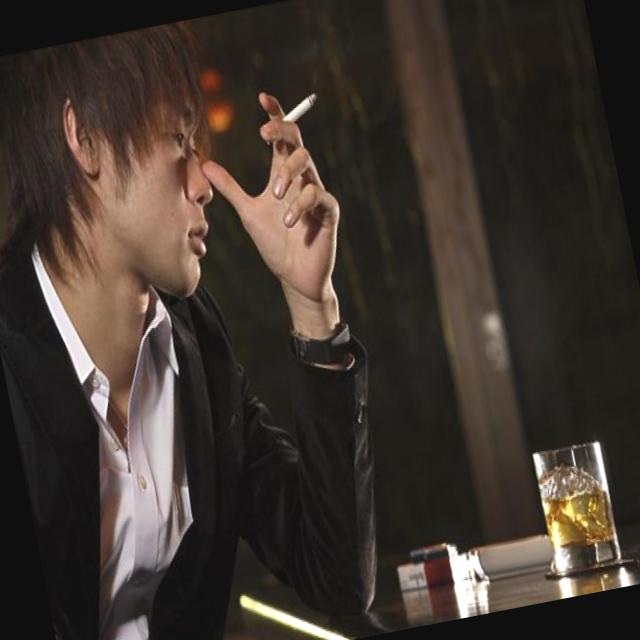smoke: (271, 90, 324, 133)
